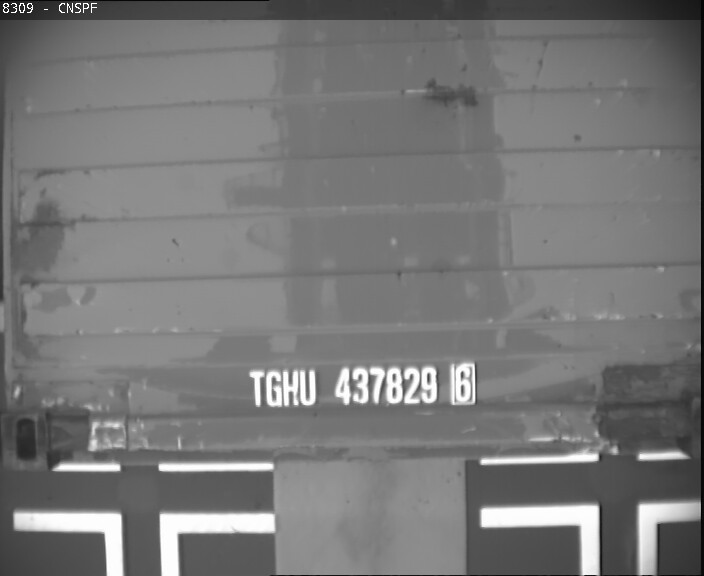groundmarker_1: (11, 510, 270, 576), (479, 501, 701, 573)
